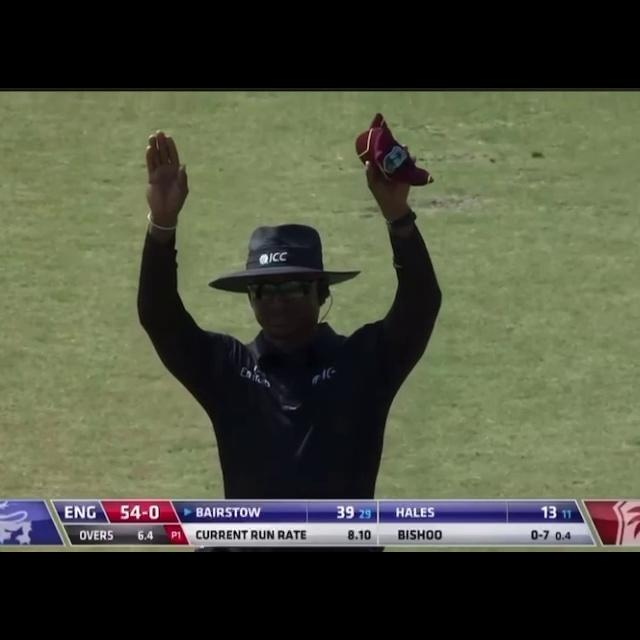umpire: (126, 107, 469, 506)
